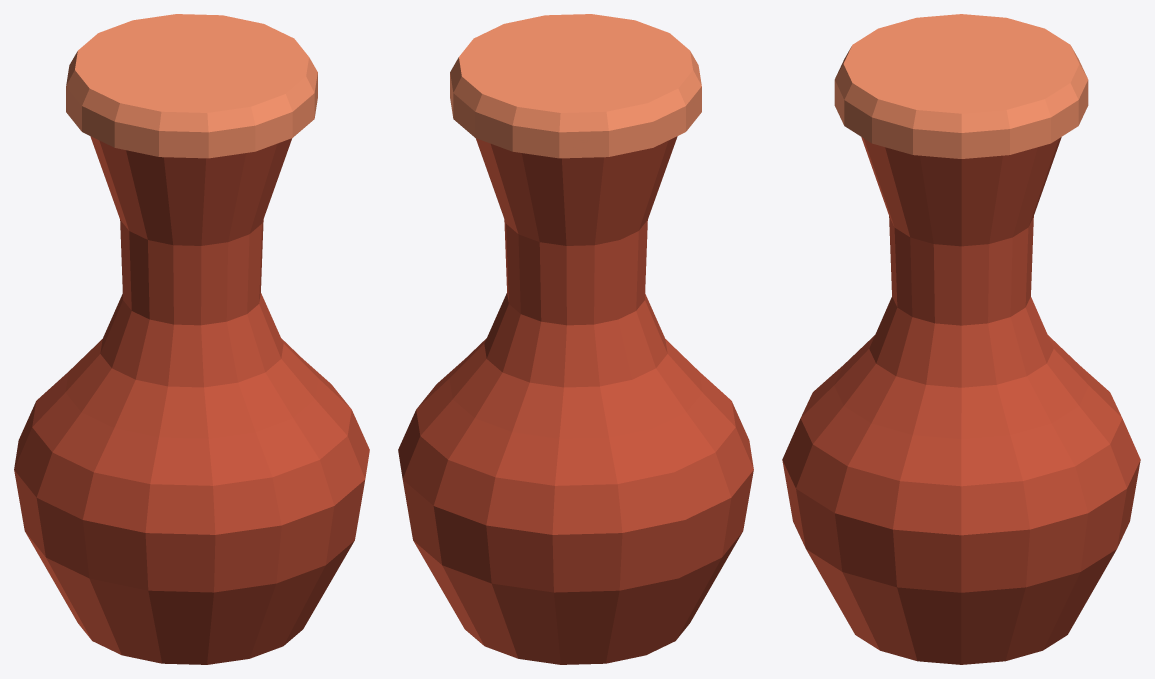
File: Pot_Narrow.fbx
The picture shows the model from 3 angles, left to right: view 1: azimuth 30°, elevation 25°; view 2: azimuth 150°, elevation 25°; view 3: azimuth 270°, elevation 25°; orthographic projection.
Visible parts, largest first — view 1: Pot_2; view 2: Pot_2; view 3: Pot_2.
Part boxes in pixels (x1,y1,x2,y2): Pot_2: [14, 14, 369, 664]; Pot_2: [398, 14, 753, 664]; Pot_2: [782, 14, 1140, 664].
Bounding box in the file's own units: 0.3116 × 0.3116 × 0.53.
